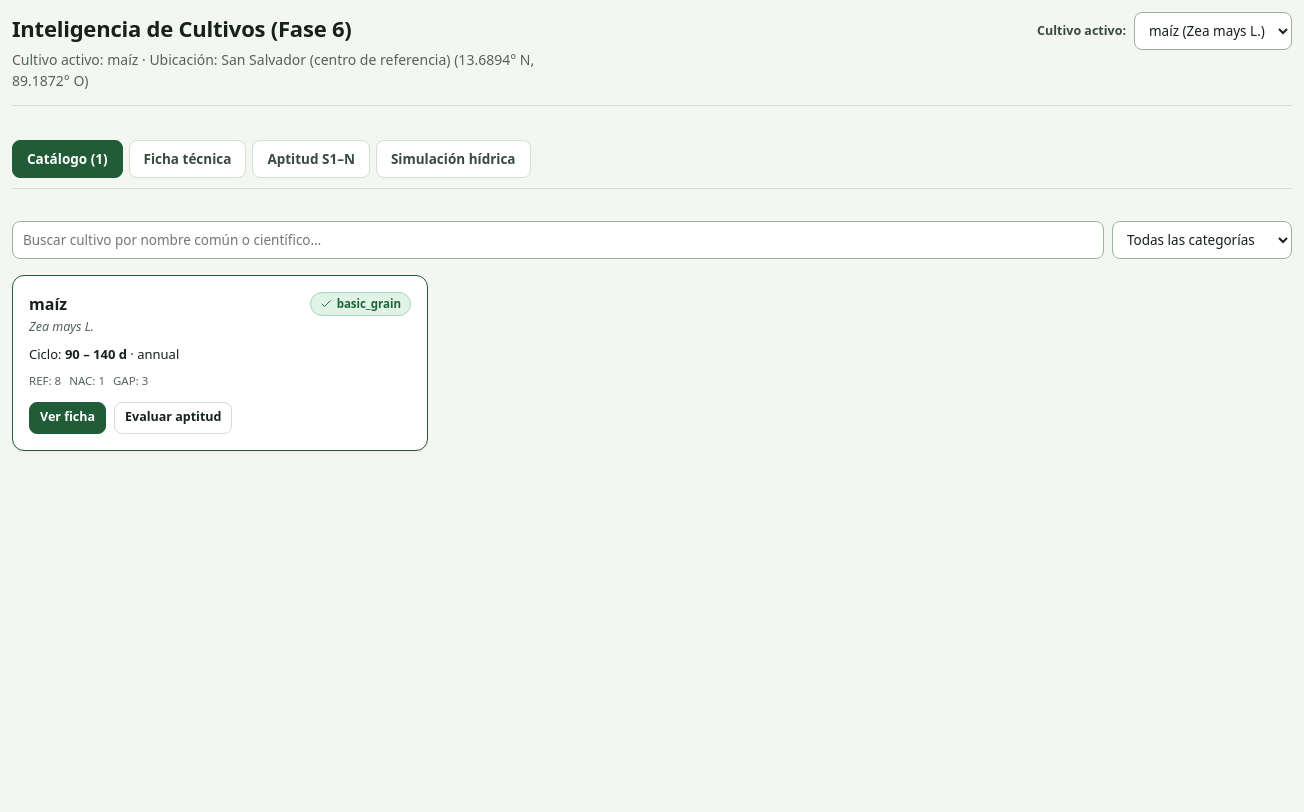
Module integration with scientific transparency › evaluates crop suitability S1-N via backend engine in CropsPage
Expected: the text "Zea mays L." is shown, [29,318,94,335]
Click the tab "Aptitud S1–N".
click(311, 159)  # box [252,140,370,178]
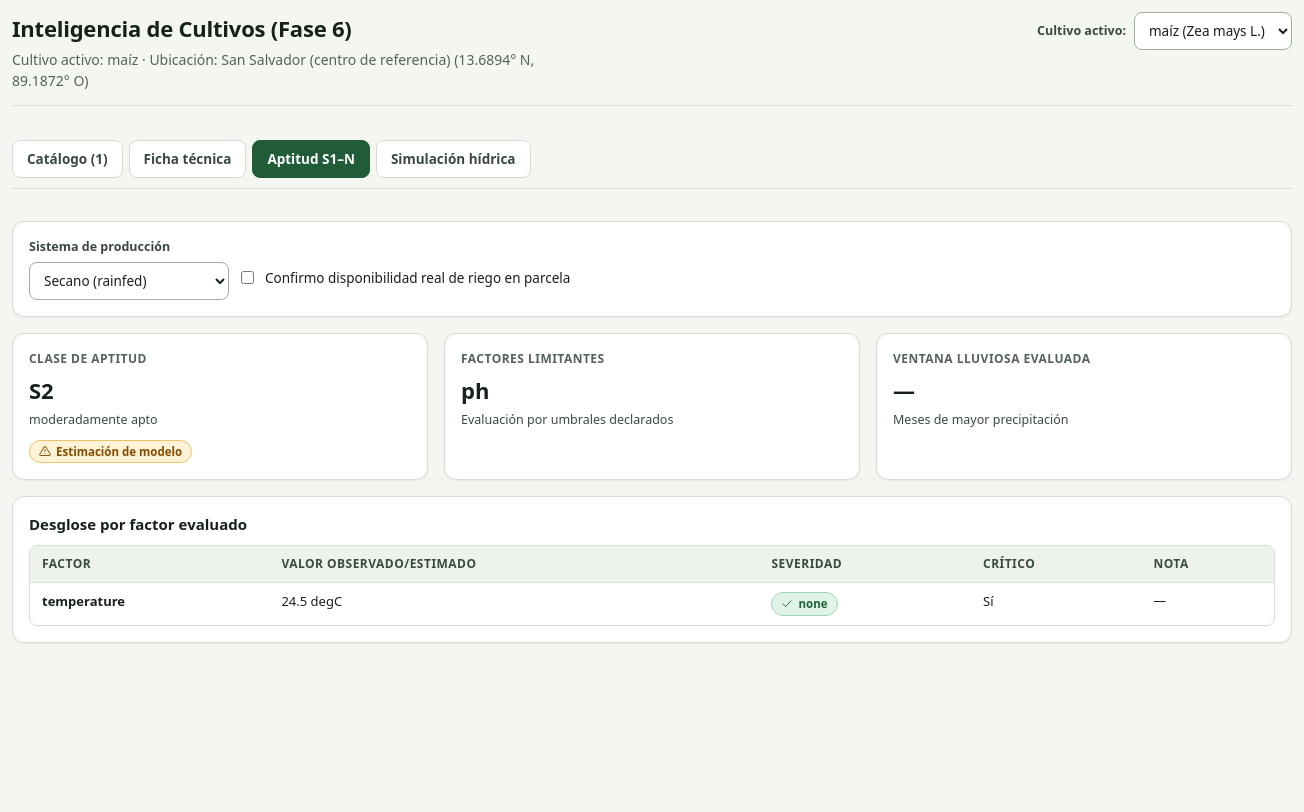
Now the text "S2" is shown, box [29,375,54,405]
Now the text "moderadamente apto" is shown, box [29,411,158,428]
